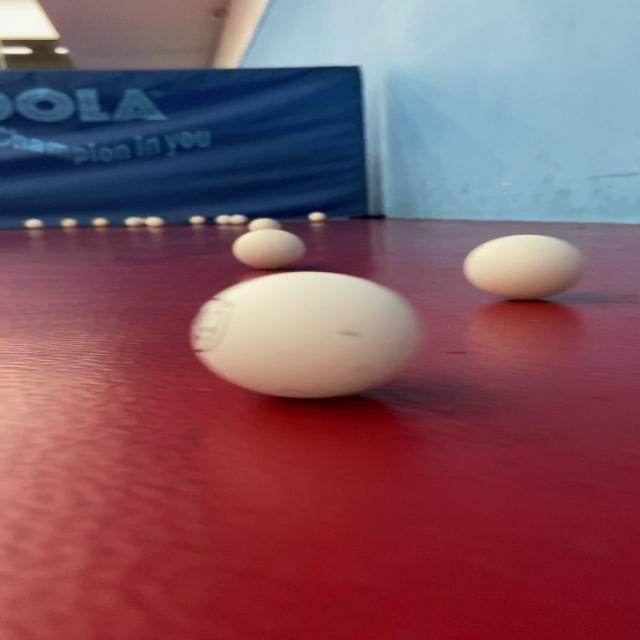ping-pong-ball: (168, 265, 441, 418), (450, 222, 600, 310), (224, 226, 322, 274), (14, 212, 57, 234), (79, 214, 119, 230), (245, 215, 285, 230), (203, 212, 236, 230), (115, 213, 146, 230), (302, 208, 330, 226), (182, 212, 214, 227), (52, 216, 80, 232), (144, 212, 168, 230), (228, 209, 252, 227)
